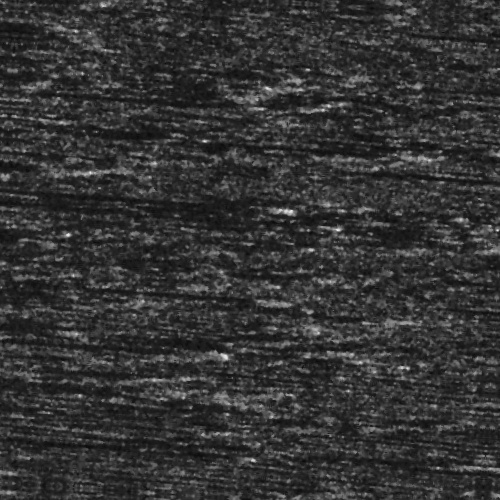object: (16, 175, 131, 186), (252, 204, 273, 207)
shadow: (0, 175, 73, 186), (0, 204, 262, 207), (243, 216, 311, 219), (243, 223, 311, 226)
